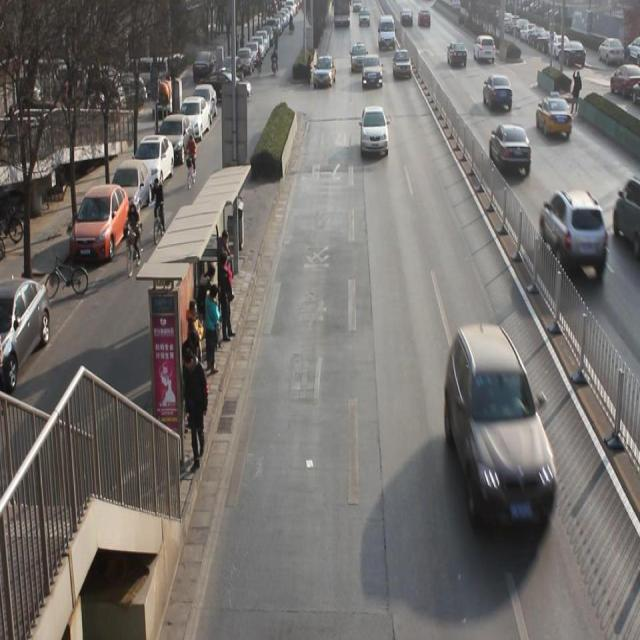car: (442, 331, 560, 538), (540, 186, 608, 282), (487, 119, 535, 177), (358, 104, 391, 166), (540, 94, 574, 144), (485, 76, 512, 114), (360, 56, 384, 92), (392, 48, 414, 85), (476, 35, 498, 68), (447, 42, 469, 74), (316, 55, 335, 91), (349, 44, 368, 73)
truck: (376, 17, 397, 51)
